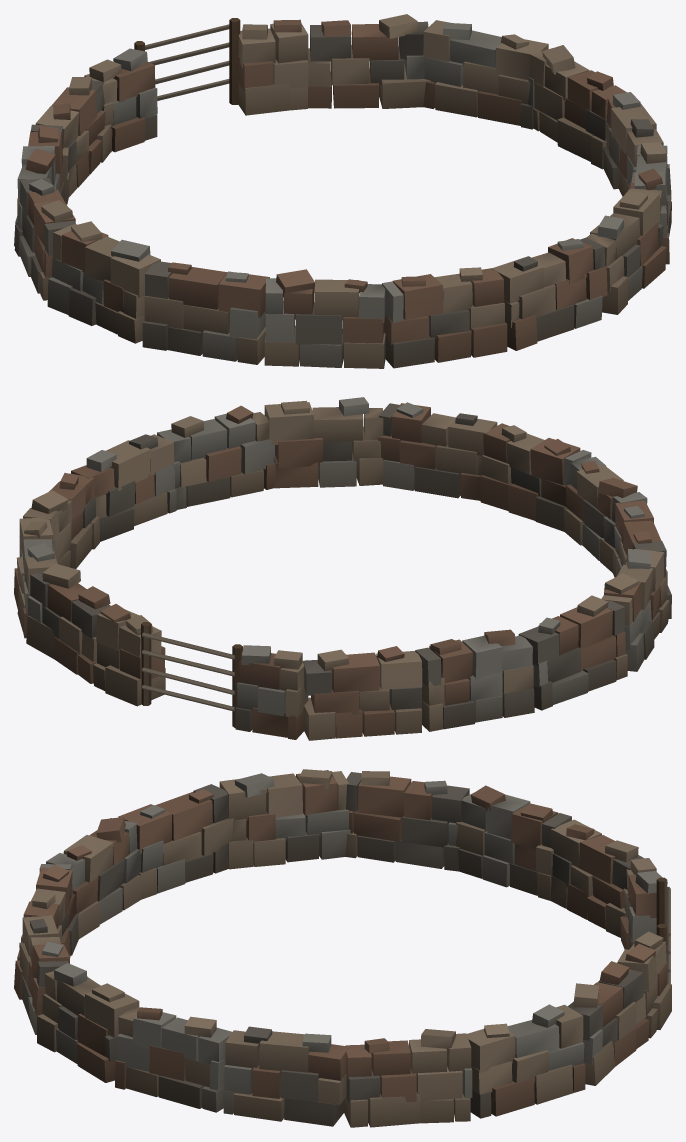
File: casa_corral_pirca_a.glb
3 views of the same model, one above another, from view 1: azimuth 30°, elevation 25°; view 2: azimuth 150°, elevation 25°; view 3: azimuth 270°, elevation 25° (orthographic). The views are drawn at different scales.
Visible parts, largest first — view 1: casa_corral_pirca_a; view 2: casa_corral_pirca_a; view 3: casa_corral_pirca_a.
Boxes of the visible parts, x1,y1,x2,y2 form: casa_corral_pirca_a: (14,14,671,368); casa_corral_pirca_a: (14,397,671,740); casa_corral_pirca_a: (14,769,671,1127).
Size of the model in its own units: 10.82 by 1.45 by 10.41.
